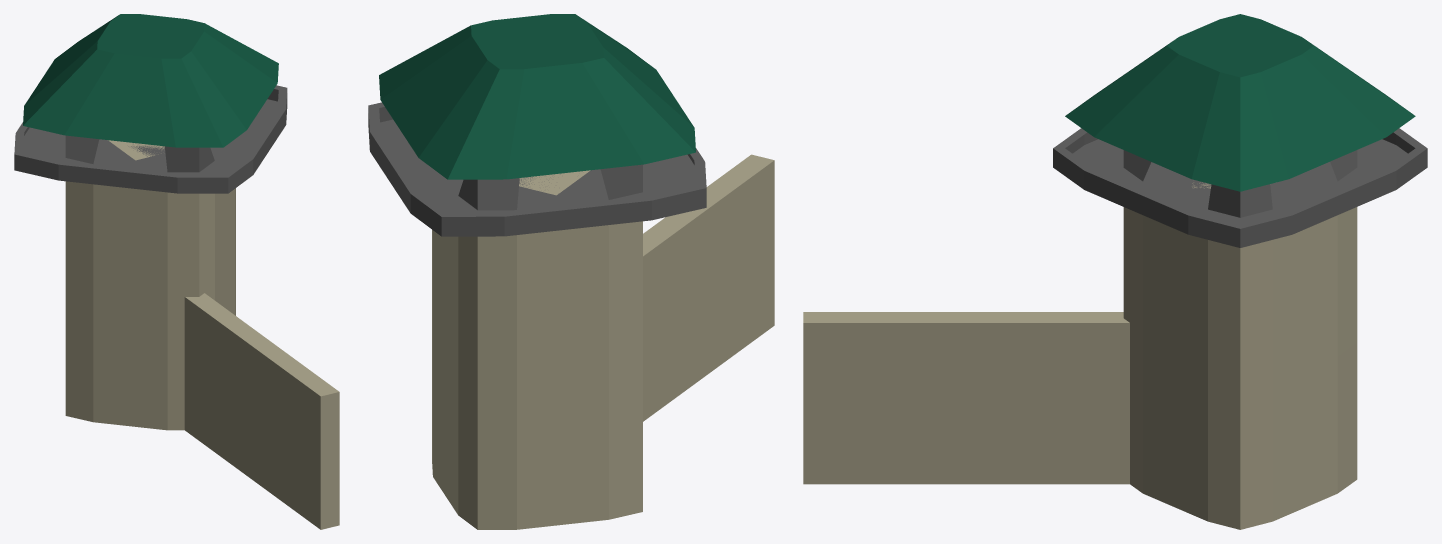
File: wallpart2.fbx
3 views of the same model, side by side, from view 1: azimuth 30°, elevation 25°; view 2: azimuth 150°, elevation 25°; view 3: azimuth 270°, elevation 25° (orthographic). The views are drawn at different scales.
Visible parts, largest first — view 1: Cube; view 2: Cube; view 3: Cube.
Part boxes in pixels (x1,y1,x2,y2): Cube: [14, 14, 339, 529]; Cube: [368, 14, 774, 529]; Cube: [803, 14, 1427, 529].
Bounding box in the file's own units: 3555 × 4464 × 5819.
